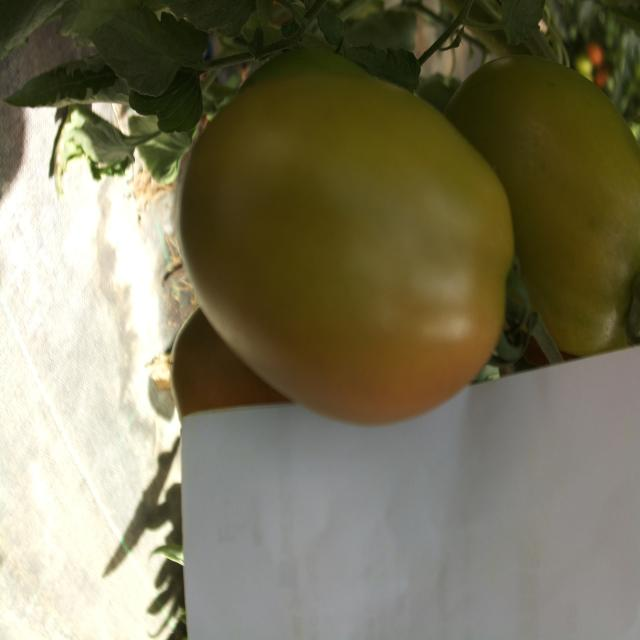yesil: (172, 52, 510, 410)
